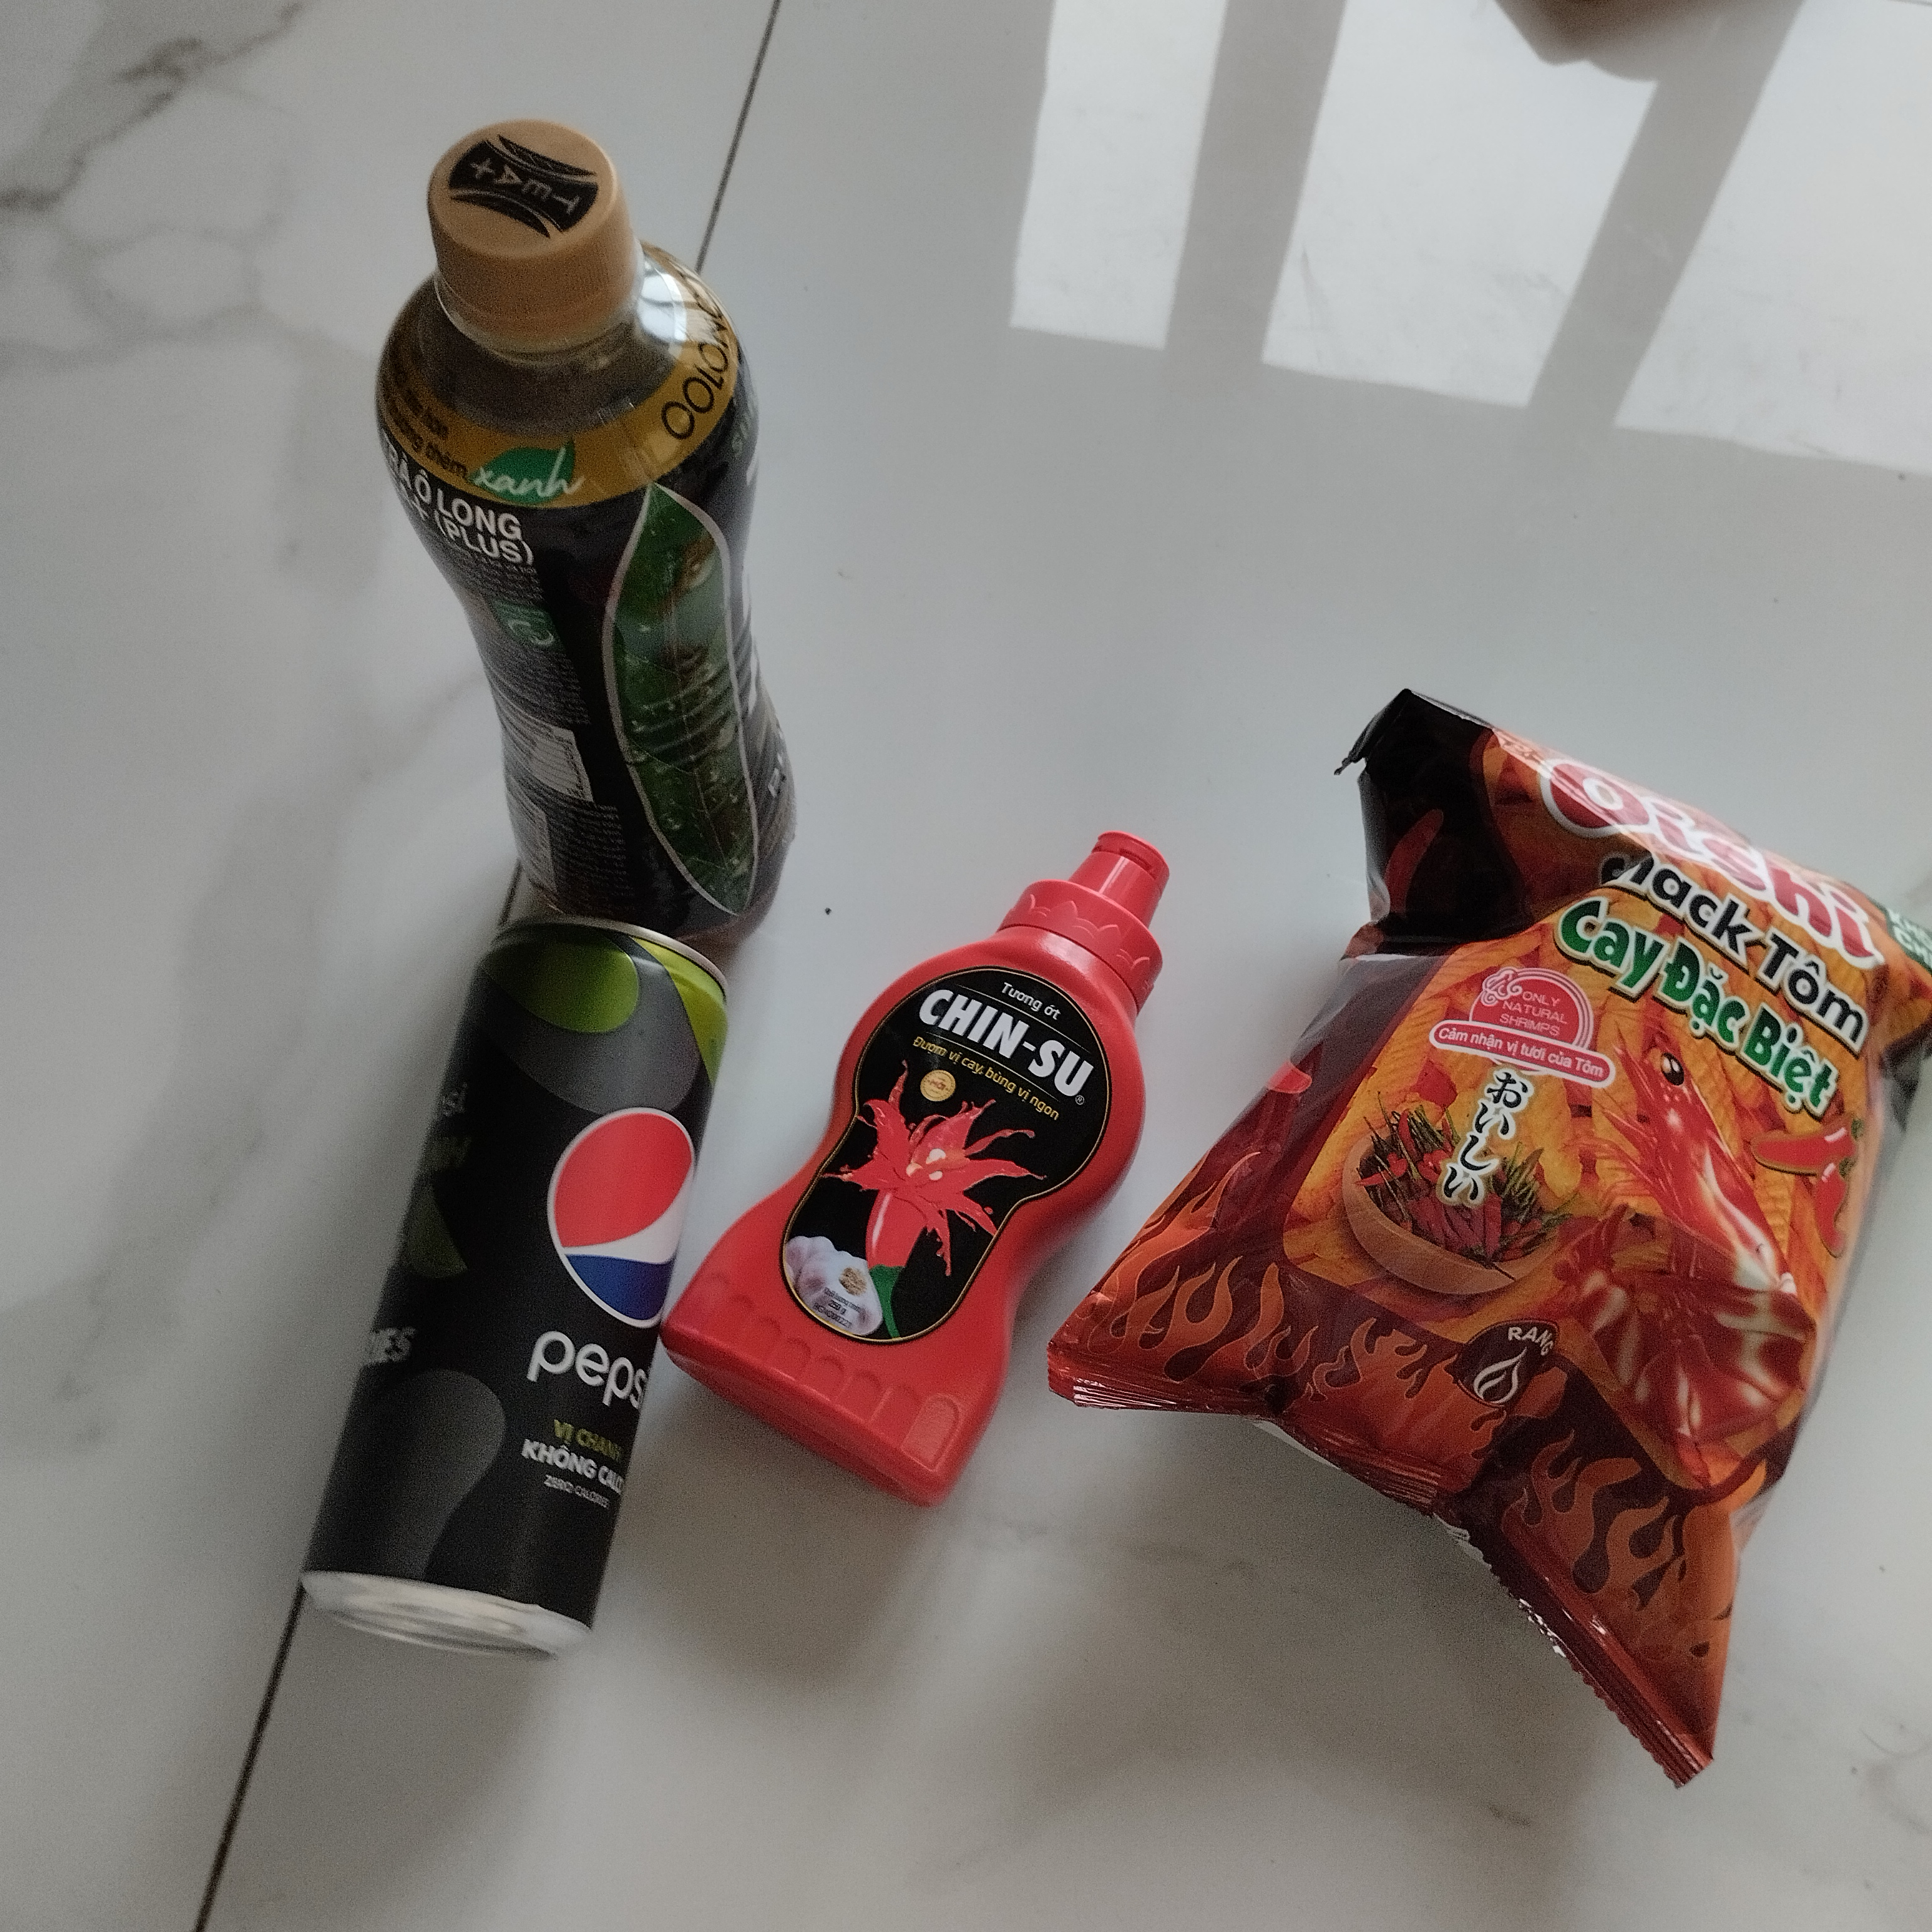Chinsu: (655, 824, 1169, 1502)
Oishi_Cay: (1035, 676, 1923, 1801)
Olong: (354, 124, 807, 968)
Pepsi: (306, 899, 725, 1684)
